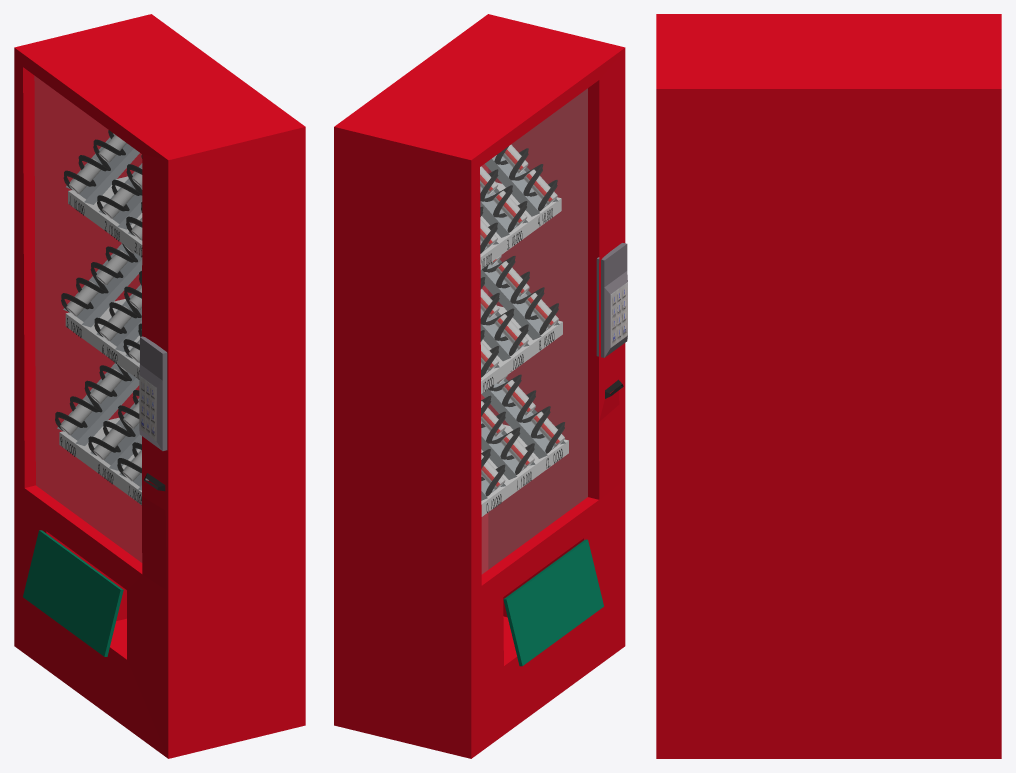
File: máybánnuoc.fbx
3 renders of one model, left to right at view 1: azimuth 30°, elevation 25°; view 2: azimuth 150°, elevation 25°; view 3: azimuth 270°, elevation 25°, orthographic. The views are drawn at different scales.
Visible parts, largest first — view 1: tủ, Cube, bấm, ngăn.002, bêđỡ.012, bêđỡ.008, ngăn, ngăn.001, bêđỡ.003, lòxo.008, lòxo.012, lòxo.003 (+6 smaller); view 2: tủ, Cube, bấm, ngăn.002, ngăn, ngăn.001, bêđỡ.009, bêđỡ.005, lòxo.005, lòxo.009, bêđỡ, lòxo.010 (+6 smaller); view 3: tủ.
Boxes of the visible parts, x1,y1,x2,y2 form: tủ: (14,14,305,758); Cube: (23,530,123,656); bấm: (139,336,167,450); ngăn.002: (59,418,141,504); bêđỡ.012: (57,363,139,445); bêđỡ.008: (63,243,142,327); ngăn: (68,176,142,257); ngăn.001: (65,299,139,379); bêđỡ.003: (66,133,139,204); lòxo.008: (61,243,137,311); lòxo.012: (55,364,131,430); lòxo.003: (63,130,125,189); tủ: (334,14,625,758); Cube: (503,539,603,666); bấm: (596,243,627,357); ngăn.002: (481,425,568,516); ngăn: (480,182,561,269); ngăn.001: (481,306,562,393); bêđỡ.009: (482,378,565,458); bêđỡ.005: (480,259,559,339); lòxo.005: (482,256,558,334); lòxo.009: (489,374,564,453); bêđỡ: (485,155,557,216); lòxo.010: (481,395,534,474); tủ: (656,14,1001,758).
Bounding box in the file's own units: 1273 × 4591 × 2143.
